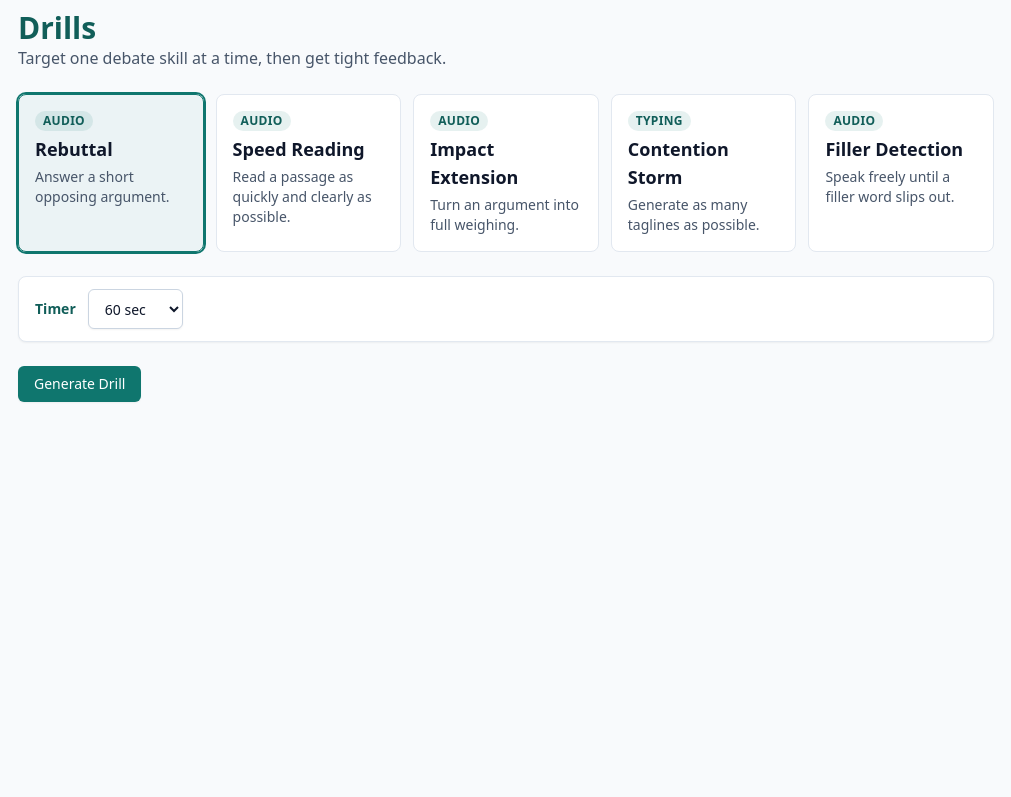
Test: DrillsClient › contention storm stays written and lets the user submit a response
Click the button "Contention Storm".
click(704, 173)  # box [611,94,796,252]
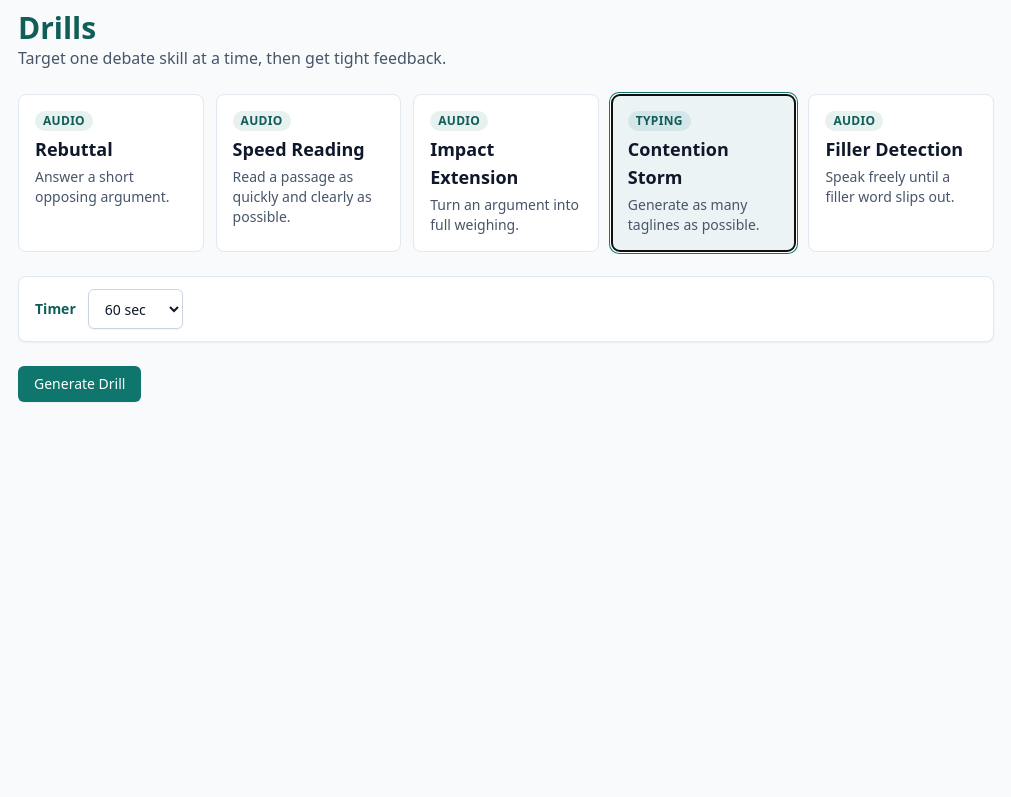
Click the button "Generate Drill".
click(80, 384)  # box [18,366,141,402]
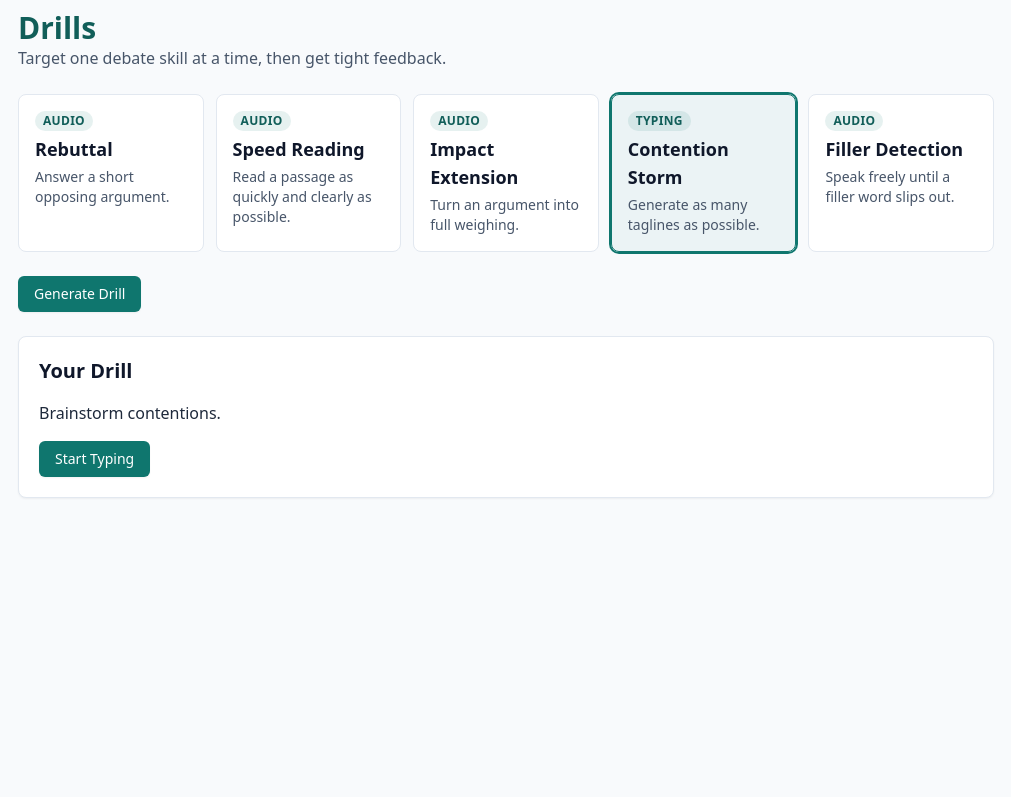
Expected: the text "Time left:" is not shown
Expected: the text "Brainstorm contentions." is shown, [39,402,221,424]
Click the button "Start Typing".
click(95, 459)  # box [39,441,150,477]
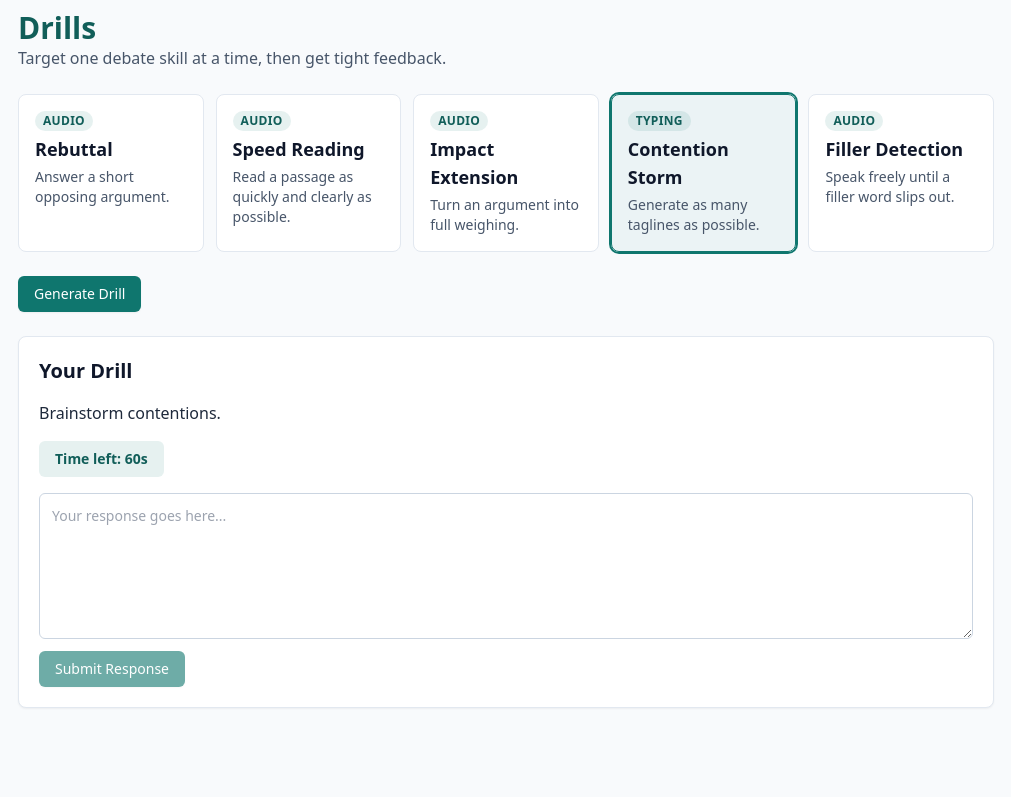
Expected: the text "Time left: 60s" is shown, [39,441,164,477]
Type "My rebuttal" into the text box with placeholder "Your response goes here...".
click(506, 566); type("My rebuttal")  # box [39,493,973,639]
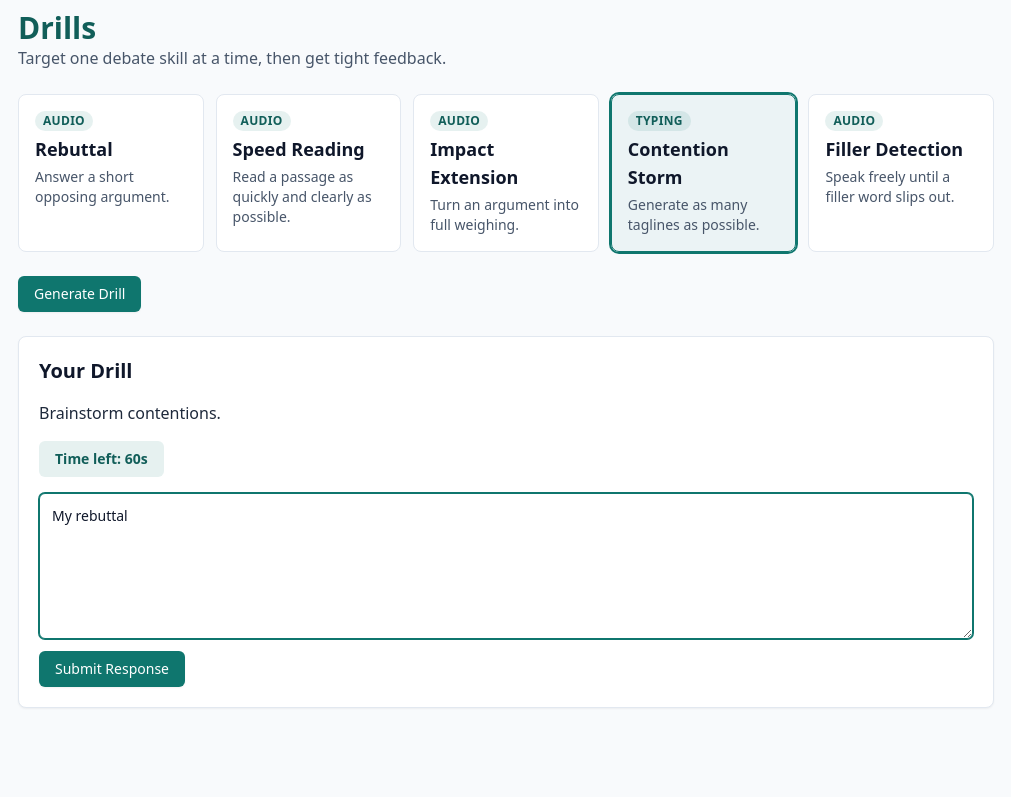
Click the button "Submit Response".
click(112, 669)  # box [39,651,185,687]
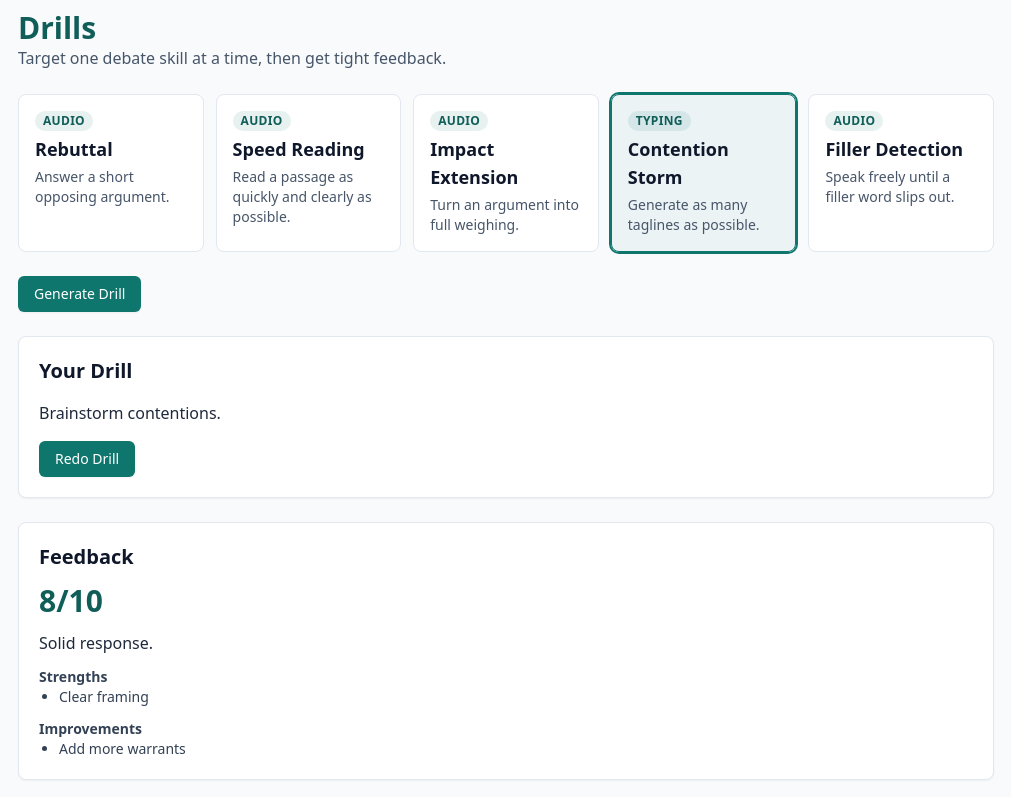
Expected: the text "Solid response." is shown, [39,632,153,654]
Expected: the list item "Clear framing" is shown, [59,687,149,706]
Expected: the list item "Add more warrants" is shown, [59,739,186,758]
